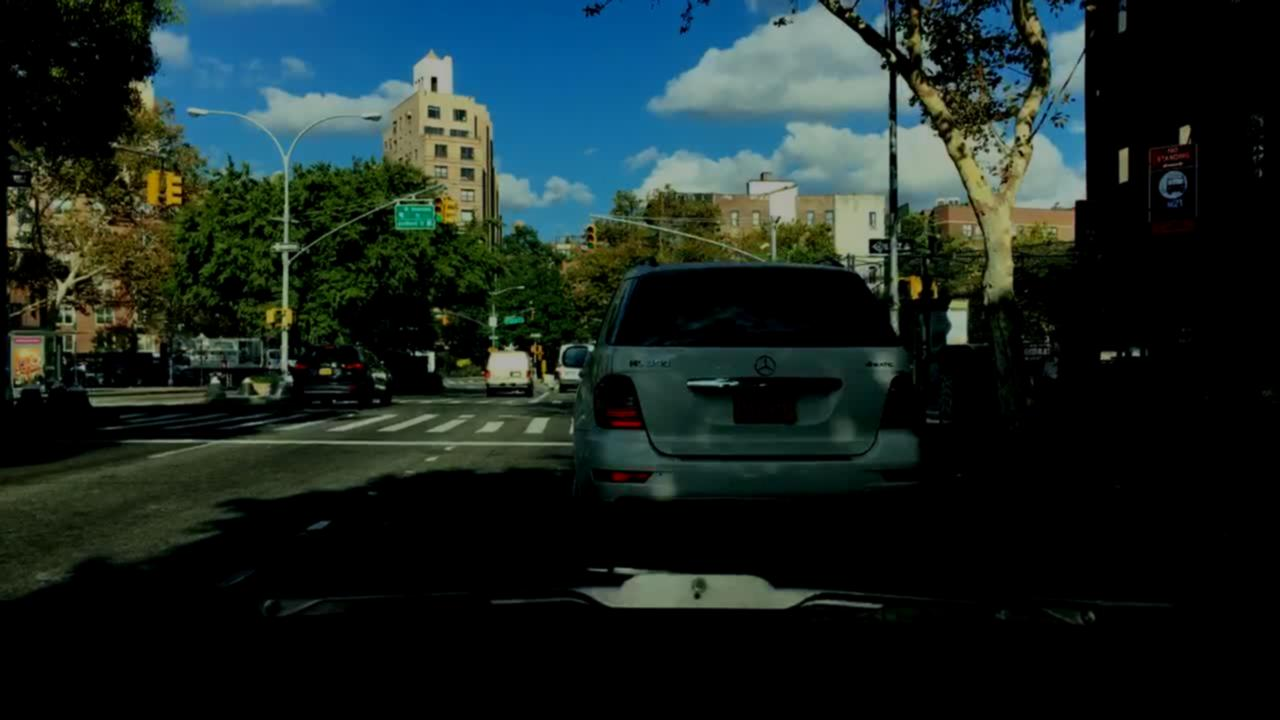Mercedes: (753, 350, 781, 379)
